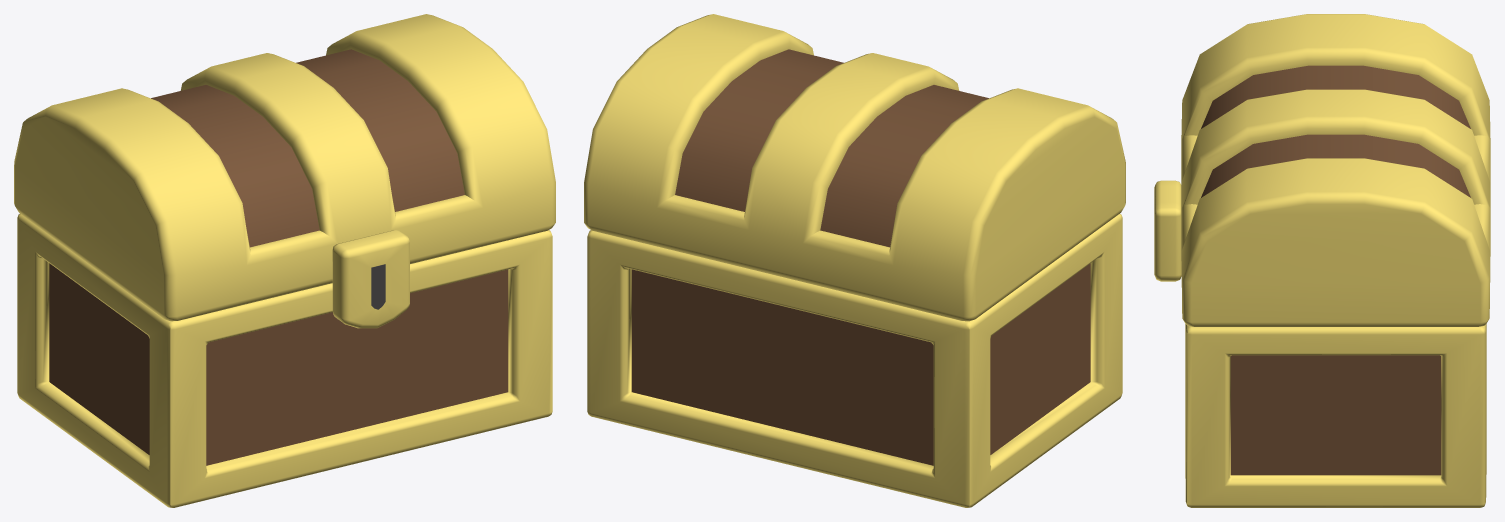
File: Chest_3.glb
The picture shows the model from 3 angles, left to right: view 1: azimuth 30°, elevation 25°; view 2: azimuth 150°, elevation 25°; view 3: azimuth 270°, elevation 25°; orthographic projection. The views are drawn at different scales.
Visible parts, largest first — view 1: Chest_3; view 2: Chest_3; view 3: Chest_3.
Boxes of the visible parts, box(x1,y1,x2,y2) form: Chest_3: box(14, 14, 555, 507); Chest_3: box(584, 14, 1125, 507); Chest_3: box(1154, 14, 1490, 507).
Bounding box in the file's own units: 1.16 × 0.9236 × 0.8904.
1 material, 1 textured.
